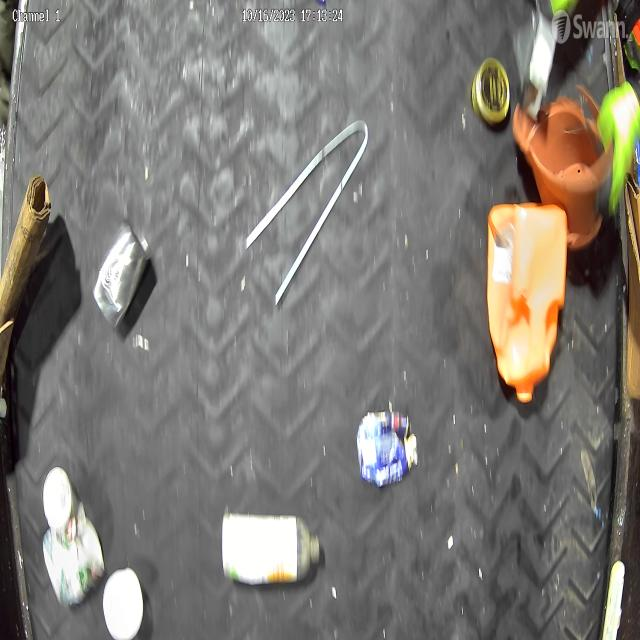can: (90, 227, 160, 337), (356, 404, 419, 485)
non_white_jug: (488, 200, 569, 419)
plastic_bottle: (220, 507, 322, 591)
